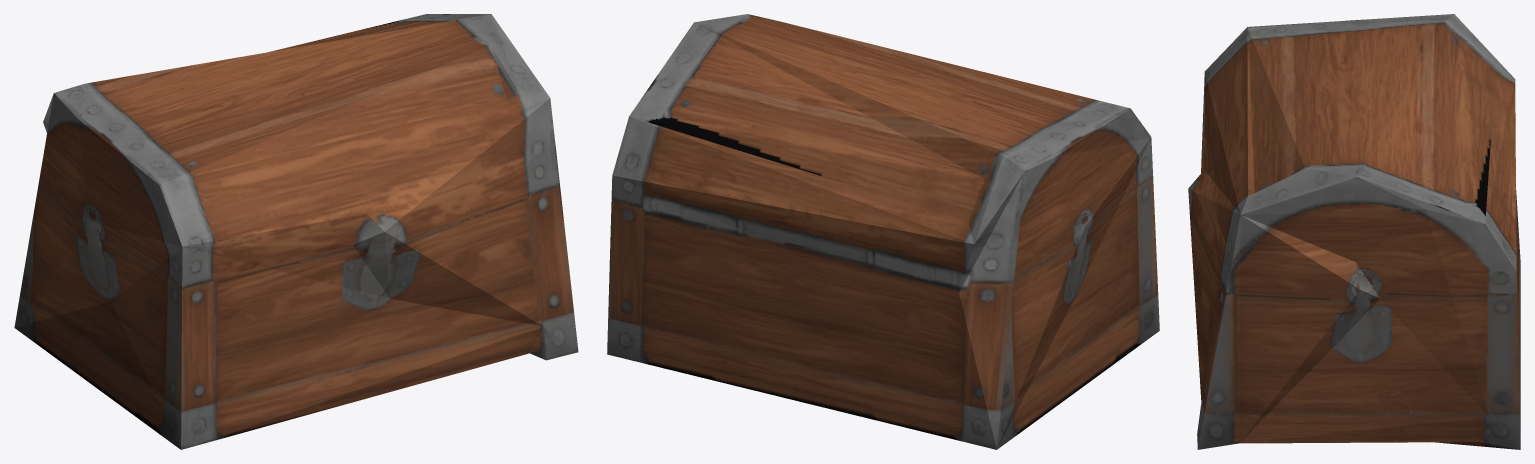
Rendered from chest_lod2.glb.
3 renders of one model, left to right at view 1: azimuth 30°, elevation 25°; view 2: azimuth 150°, elevation 25°; view 3: azimuth 270°, elevation 25°, orthographic. The views are drawn at different scales.
Parts seen in each view (by area): view 1: geometry_0; view 2: geometry_0; view 3: geometry_0.
Boxes of the visible parts, bbox=[...] form: geometry_0: bbox=[14, 14, 578, 449]; geometry_0: bbox=[607, 14, 1159, 449]; geometry_0: bbox=[1188, 14, 1520, 449].
Bounding box in the file's own units: 1.01 × 0.655 × 0.7282.
1 material, 1 textured.
